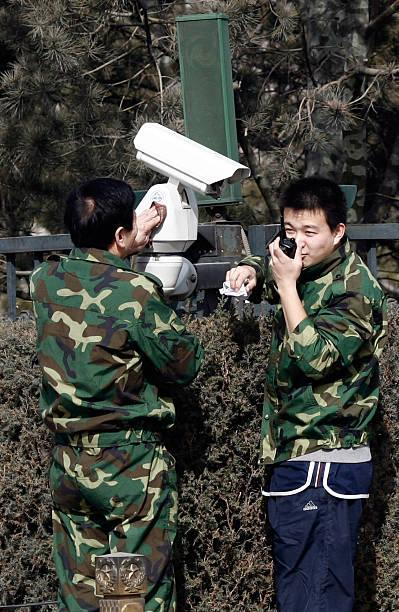camera: (127, 117, 255, 200)
